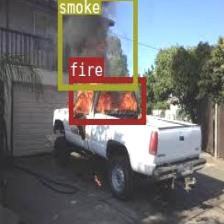fire: (68, 76, 145, 123)
smoke: (58, 0, 136, 89)
